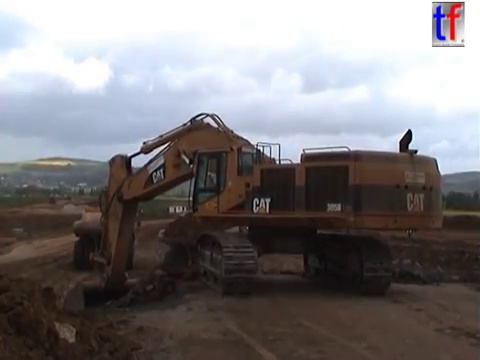excavator: (56, 109, 446, 321)
truck: (156, 199, 281, 273), (71, 197, 142, 273), (47, 194, 58, 205), (64, 192, 73, 202)
worker: (403, 214, 417, 241)
